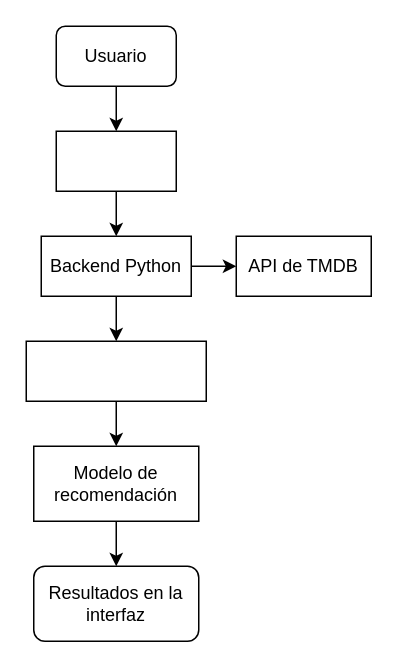
This 398x668 diagram has some shape labels left out. The centre of each missing label's shape, as x and y in pixels:
Interfaz Web: point (115, 160)
Traductor Helsinki-NLP: point (115, 370)
